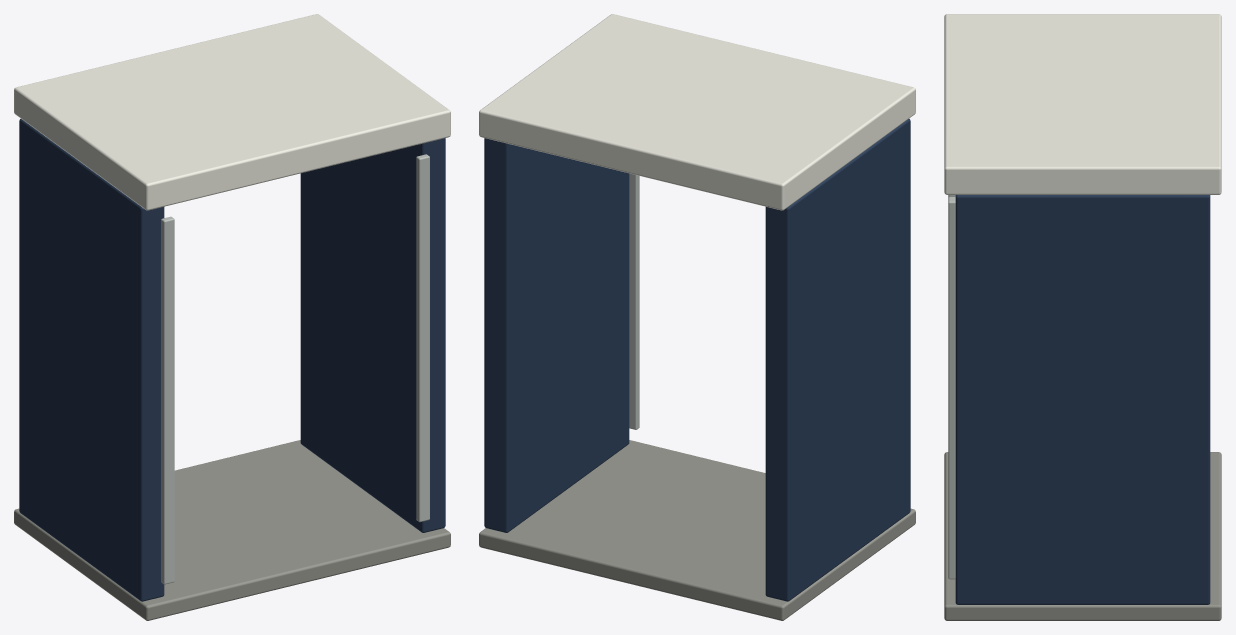
The model's file is planetarium-and-optical-observatory-dome-entrance-vest-1557b93f__31820.glb.
The picture shows the model from 3 angles, left to right: view 1: azimuth 30°, elevation 25°; view 2: azimuth 150°, elevation 25°; view 3: azimuth 270°, elevation 25°; orthographic projection. The views are drawn at different scales.
Parts seen in each view (by area): view 1: dome-entrance-vestibule; view 2: dome-entrance-vestibule; view 3: dome-entrance-vestibule.
Part boxes in pixels (bbox=[...]): dome-entrance-vestibule: bbox=[14, 14, 450, 620]; dome-entrance-vestibule: bbox=[479, 14, 915, 620]; dome-entrance-vestibule: bbox=[944, 14, 1221, 620].
Size of the model in its own units: 1.65 by 2.26 by 1.25.
